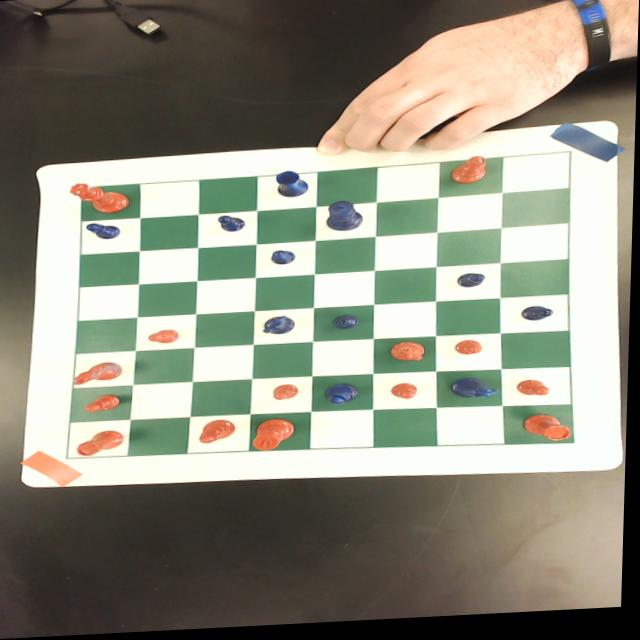B: (327, 385, 362, 409)
K: (327, 203, 366, 234)
N: (451, 381, 504, 405), (264, 318, 299, 337)
P: (86, 221, 121, 241), (522, 309, 557, 327), (218, 216, 247, 234), (457, 277, 488, 293), (271, 251, 297, 268), (334, 317, 360, 333)
R: (276, 172, 311, 201)
b: (452, 159, 490, 189), (200, 420, 239, 446)
cb: (70, 157, 577, 458)
k: (254, 420, 298, 454)
n: (75, 361, 127, 386), (391, 345, 431, 366)
p: (85, 394, 124, 414), (518, 384, 555, 403), (148, 330, 183, 346), (392, 386, 421, 404), (456, 343, 486, 360), (273, 386, 302, 402)
q: (71, 181, 132, 215)
r: (522, 414, 580, 449), (77, 428, 127, 457)
